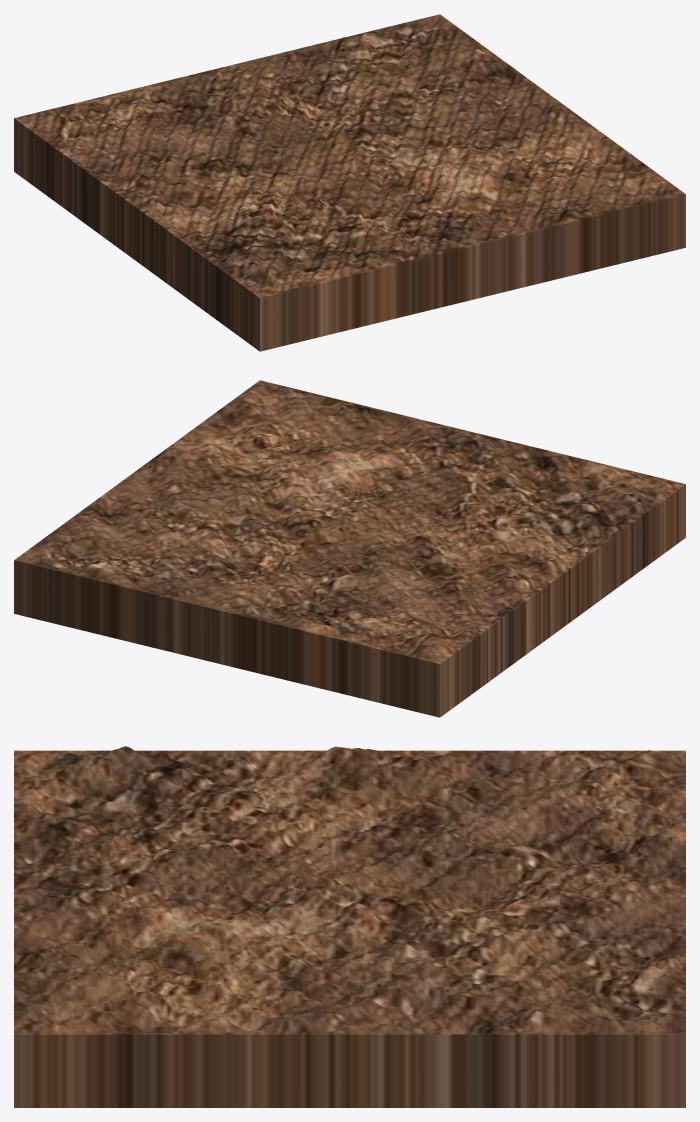
The model's file is s03-dug-turnover-soil.glb.
3 renders of one model, top to bottom at view 1: azimuth 30°, elevation 25°; view 2: azimuth 150°, elevation 25°; view 3: azimuth 270°, elevation 25°, orthographic. The views are drawn at different scales.
Visible parts, largest first — view 1: world; view 2: world; view 3: world.
Part boxes in pixels (x1,y1,x2,y2): world: (14,14,685,351); world: (14,380,685,717); world: (14,746,685,1107).
Bounding box in the file's own units: 1 × 0.1416 × 1.
Materials: 1 (1 with a texture image).
